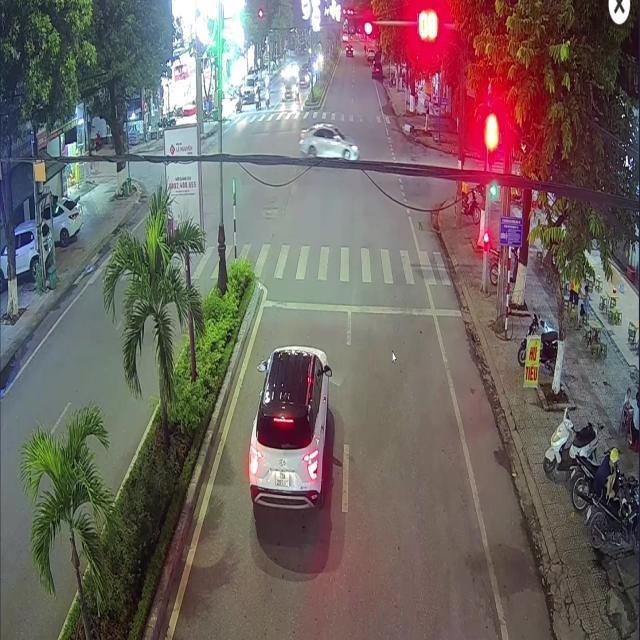car: (247, 345, 331, 508), (298, 122, 358, 159), (371, 60, 381, 77)
red_light: (347, 16, 372, 33), (487, 130, 494, 165), (483, 231, 487, 250)
stop_line: (263, 300, 461, 316)
